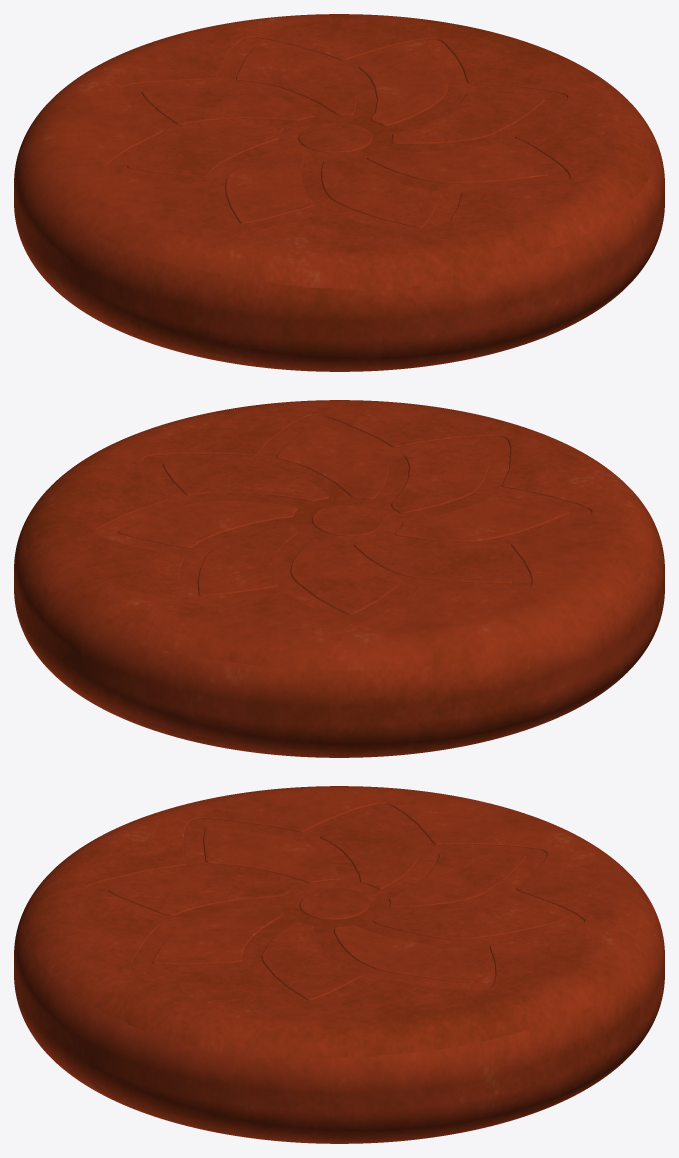
The model's file is Tile_Jasmine.glb.
3 views of the same model, one above another, from view 1: azimuth 30°, elevation 25°; view 2: azimuth 150°, elevation 25°; view 3: azimuth 270°, elevation 25° (orthographic).
Parts seen in each view (by area): view 1: Tile; view 2: Tile; view 3: Tile.
Part boxes in pixels (x1,y1,x2,y2): Tile: (14, 14, 664, 371); Tile: (14, 400, 664, 757); Tile: (14, 786, 664, 1143).
Size of the model in its own units: 2 by 0.4 by 2.
2 materials, 2 textured.
